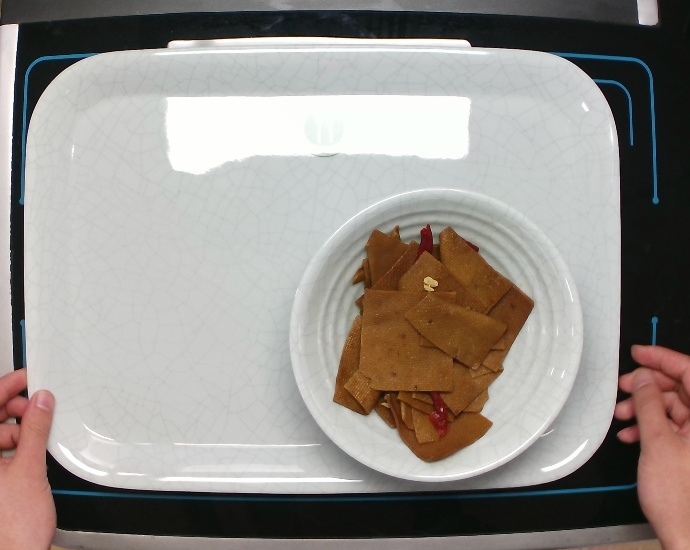JYsf-Xiao_Tang_Wan: (286, 186, 586, 485)
